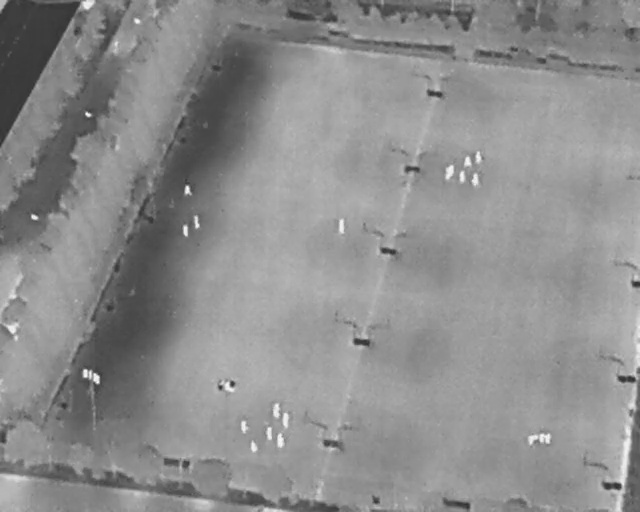Person: (276, 432, 285, 449), (272, 402, 281, 419), (471, 172, 480, 188), (240, 420, 249, 434), (265, 426, 273, 441), (281, 413, 289, 428), (338, 218, 345, 234), (250, 439, 258, 453), (193, 215, 200, 230), (474, 151, 482, 164), (464, 155, 472, 167), (182, 224, 189, 237), (184, 185, 192, 196), (459, 170, 465, 183), (449, 164, 455, 177), (445, 166, 450, 180)
